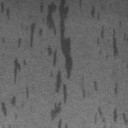red iron: (18, 0, 118, 128), (2, 86, 29, 116), (98, 108, 128, 125), (14, 58, 26, 82), (0, 2, 10, 18), (114, 83, 118, 94)
